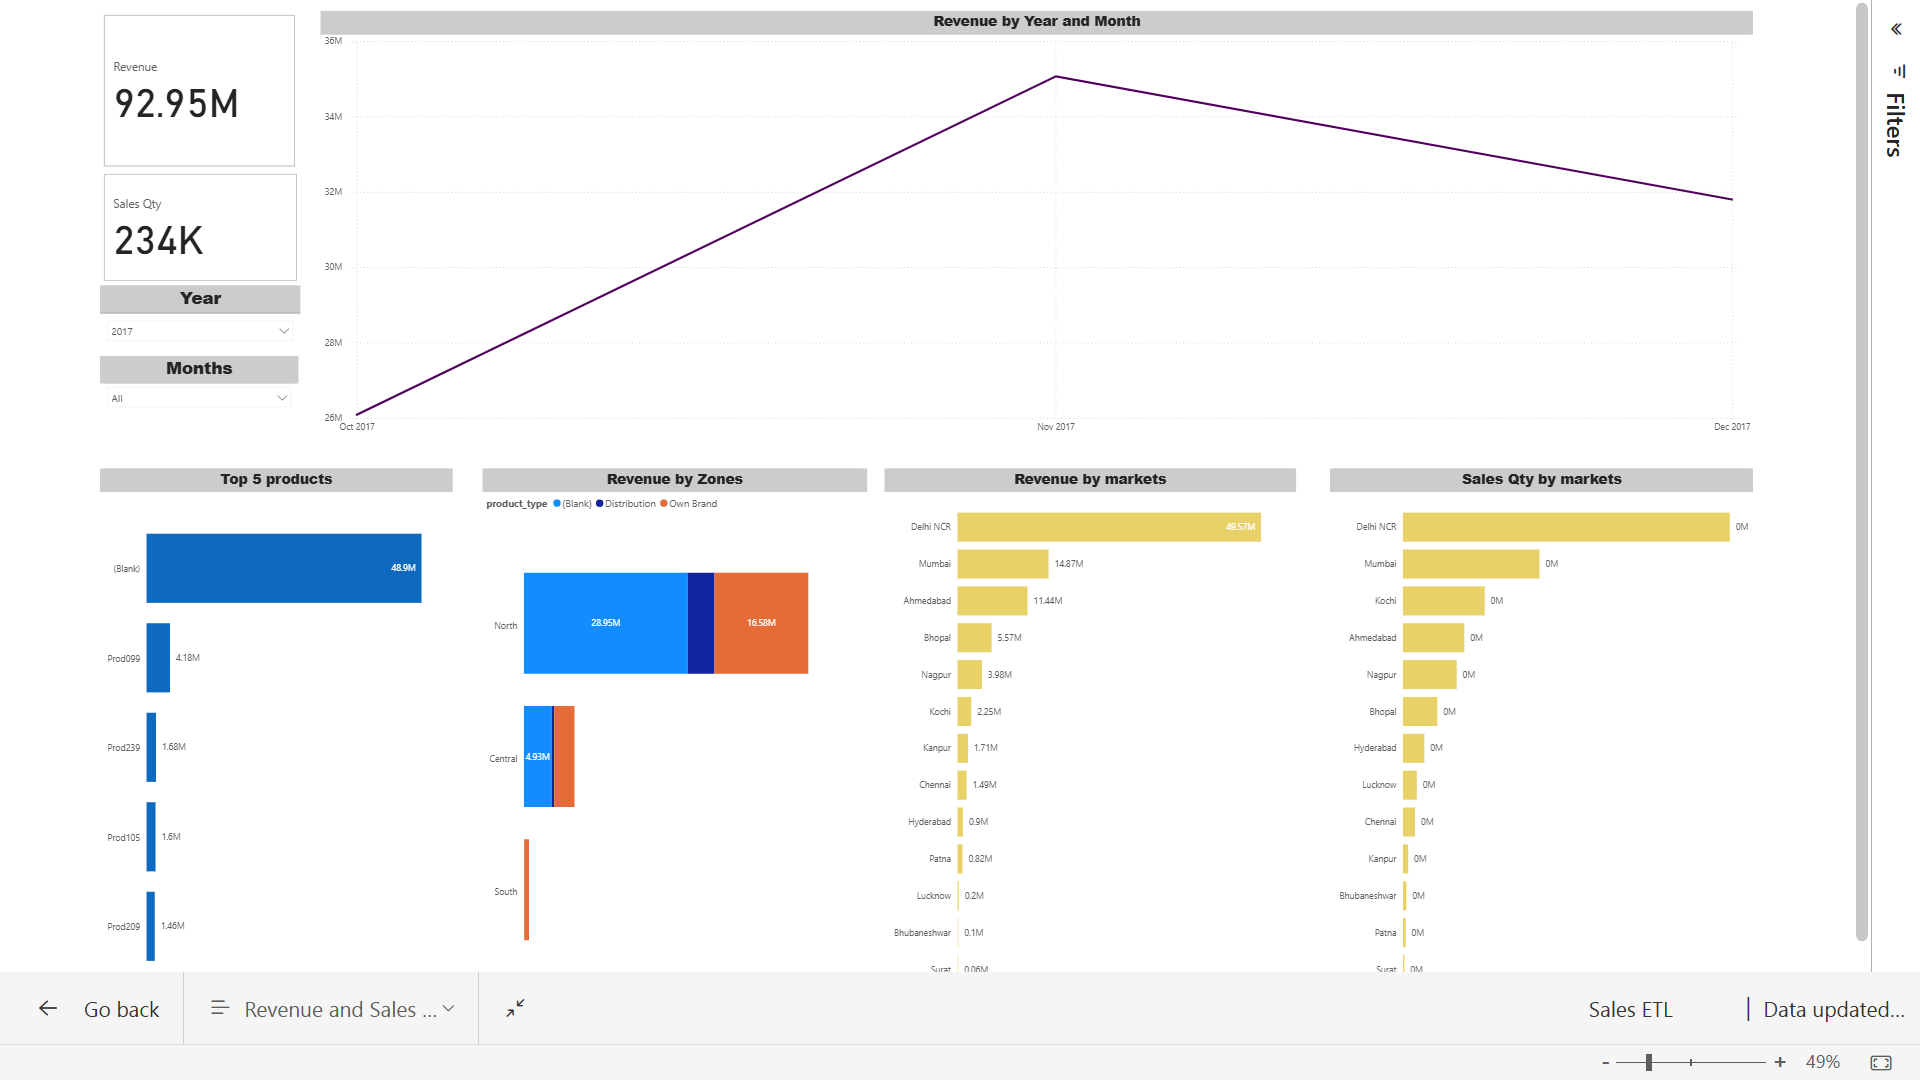

The page's visual inventory and layout, read from the dashboard file:
{"tool":"powerbi","page":{"name":"Revenue and Sales insight","canvas":[2250,1350],"ordinal":0},"visuals":[{"type":"cardVisual","title":"Revenue","fields":{"Data":["BaseMeasures.Revenue"]},"box":[0,0,270,216.7],"z":0},{"type":"cardVisual","fields":{"Data":["BaseMeasures.Sales Qty"]},"box":[0,216.7,273.3,156.7],"z":1000},{"type":"barChart","title":"Revenue by markets","fields":{"Y":["BaseMeasures.Revenue"],"Category":["sales markets.markets_name"]},"box":[1066.7,623.3,560,726.7],"z":2000},{"type":"barChart","title":"Sales Qty by markets","fields":{"Y":["BaseMeasures.Sales Qty"],"Category":["sales markets.markets_name"]},"box":[1673.3,623.3,576.7,726.7],"z":3000},{"type":"slicer","title":"Year","fields":{"Values":["sales date.cy_date.Variation.Date Hierarchy.Year"]},"box":[0,373,273,97.3],"z":4000},{"type":"slicer","title":"Months","fields":{"Values":["sales date.cy_date.Variation.Date Hierarchy.Month"]},"box":[0,470,270,113.3],"z":5000},{"type":"barChart","title":"Revenue by Zones","fields":{"Y":["BaseMeasures.Revenue"],"Category":["sales markets.zone"],"Series":["sales products.product_type"]},"box":[520,623.3,523.3,726.7],"z":6000},{"type":"barChart","title":"Top 5 products","fields":{"Y":["BaseMeasures.Revenue"],"Category":["sales products.product_code"]},"box":[0,623.3,480,726.7],"z":7000},{"type":"lineChart","fields":{"Y":["BaseMeasures.Revenue"],"Category":["sales date.date.Variation.Date Hierarchy.Year","sales date.date.Variation.Date Hierarchy.Month"]},"box":[300,0,1950,583.3],"z":8000}]}

Visuals, with their boxes on the page's 2250x1350 design canvas (x1, y1, x2, y2). These are canvas units, not pixel positions in the 1920x1080 screenshot, which may show the page scaled, cropped or inside an application window:
"Revenue" cardVisual: 0 0 270 217
cardVisual - BaseMeasures.Sales Qty: 0 217 273 373
"Revenue by markets" barChart: 1067 623 1627 1350
"Sales Qty by markets" barChart: 1673 623 2250 1350
"Year" slicer: 0 373 273 470
"Months" slicer: 0 470 270 583
"Revenue by Zones" barChart: 520 623 1043 1350
"Top 5 products" barChart: 0 623 480 1350
lineChart - BaseMeasures.Revenue x sales date.date.Variation.Date Hierarchy.Year: 300 0 2250 583
